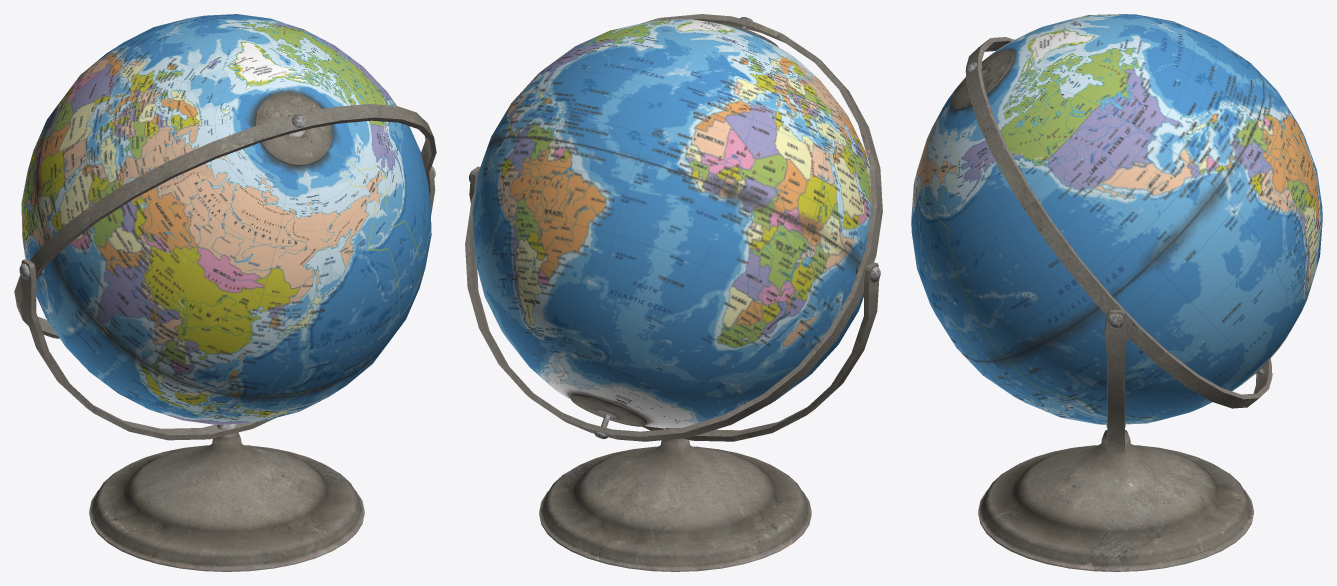
Rendered from SM_Globe_01a.fbx.
3 renders of one model, left to right at view 1: azimuth 30°, elevation 25°; view 2: azimuth 150°, elevation 25°; view 3: azimuth 270°, elevation 25°, orthographic.
Visible parts, largest first — view 1: SM_Globe_01a_LOD0; view 2: SM_Globe_01a_LOD0; view 3: SM_Globe_01a_LOD0.
Boxes of the visible parts, x1,y1,x2,y2 form: SM_Globe_01a_LOD0: [14, 14, 436, 571]; SM_Globe_01a_LOD0: [465, 14, 882, 571]; SM_Globe_01a_LOD0: [911, 14, 1322, 571].
Size of the model in its own units: 57.94 by 49.99 by 64.49.
